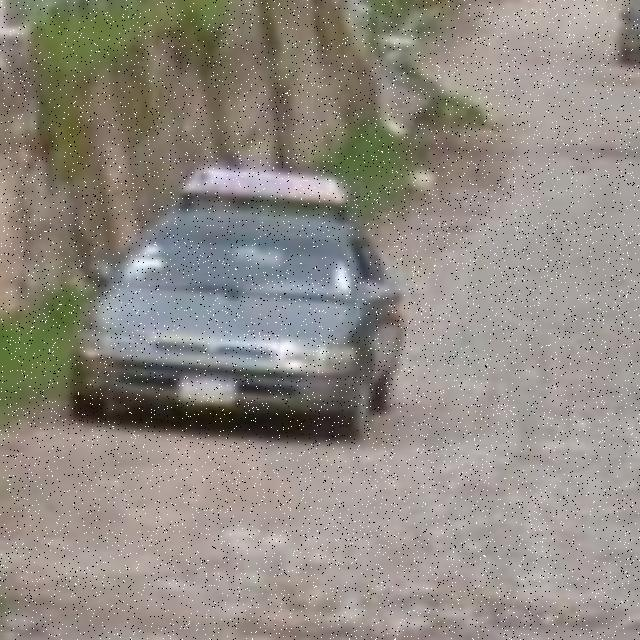cars: (90, 174, 407, 433)
